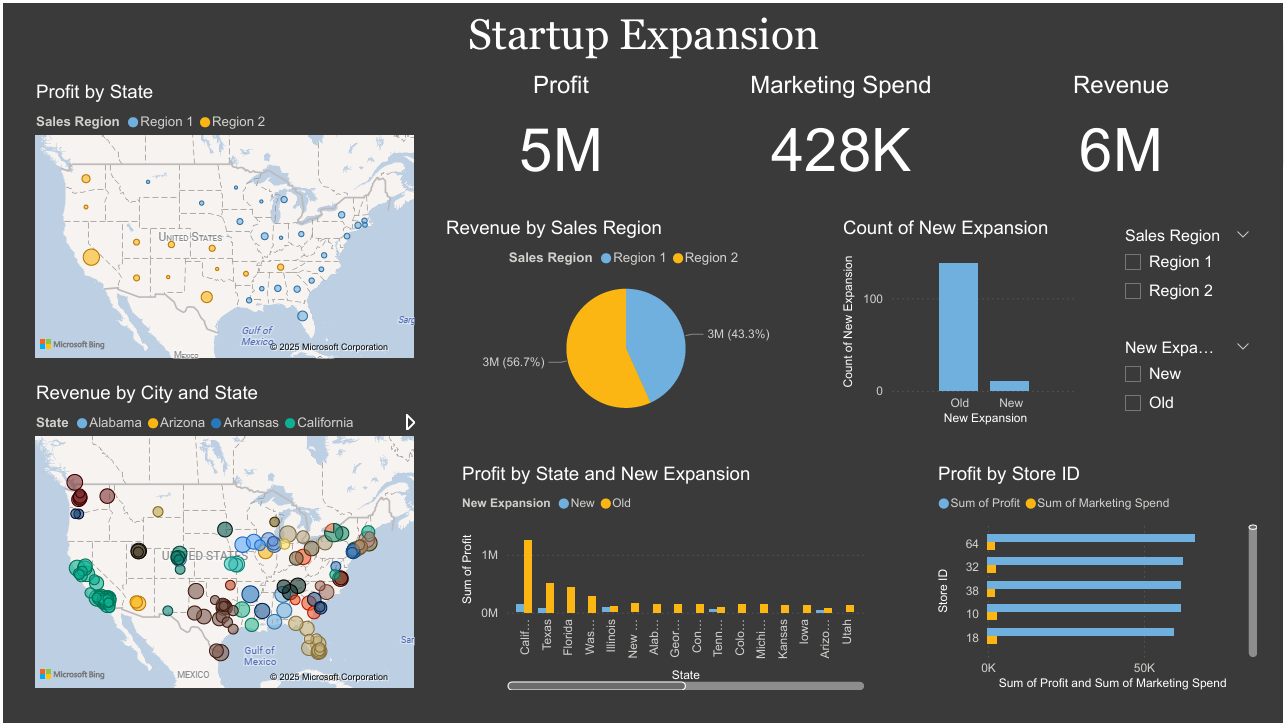

The page's visual inventory and layout, read from the dashboard file:
{"tool":"powerbi","page":{"name":"Page 1","canvas":[1280,720],"ordinal":0},"visuals":[{"type":"textbox","box":[453.3,1.1,372.2,67.8],"z":0},{"type":"map","title":"Profit by State","fields":{"Category":["New Text Document.State"],"Size":["Sum(New Text Document.Profit)"],"Series":["New Text Document.Sales Region"]},"box":[26.7,76.7,388.9,283.3],"z":1000},{"type":"map","title":"Revenue by City and State","fields":{"Category":["New Text Document.City"],"Size":["Sum(New Text Document.Revenue)"],"Series":["New Text Document.State"]},"box":[26.7,377.8,388.9,312.2],"z":2000},{"type":"pieChart","title":"Revenue by Sales Region","fields":{"Series":["New Text Document.Sales Region"],"Y":["Sum(New Text Document.Revenue)"]},"box":[436.5,212.6,370.1,213.8],"z":3000},{"type":"card","title":"Profit","fields":{"Values":["Sum(New Text Document.Profit)"]},"box":[436.7,66.8,240,122.2],"z":4000},{"type":"card","title":"Marketing Spend","fields":{"Values":["Sum(New Text Document.Marketing Spend)"]},"box":[716.7,66.8,240,122.2],"z":5000},{"type":"card","title":"Revenue","fields":{"Values":["Sum(New Text Document.Revenue)"]},"box":[996.7,66.8,240,122.2],"z":6000},{"type":"columnChart","title":"Count of New Expansion ","fields":{"Category":["New Text Document.New Expansion"],"Y":["CountNonNull(New Text Document.New Expansion)"]},"box":[833.6,212.6,245.2,213.8],"z":7000},{"type":"clusteredColumnChart","title":"Profit by State and New Expansion","fields":{"Category":["New Text Document.State"],"Series":["New Text Document.New Expansion"],"Y":["Sum(New Text Document.Profit)"]},"box":[453.4,459,411.8,231.8],"z":8000},{"type":"slicer","fields":{"Values":["New Text Document.Sales Region"]},"box":[1108.1,218.2,149.6,96.8],"z":9000},{"type":"slicer","fields":{"Values":["New Text Document.New Expansion"]},"box":[1108.1,329.6,149.6,96.8],"z":10000},{"type":"clusteredBarChart","title":"Profit by Store ID","fields":{"Category":["New Text Document.Store ID"],"Y":["Sum(New Text Document.Profit)","Sum(New Text Document.Marketing Spend)"]},"box":[929.2,459,328.5,231.8],"z":11000}]}

Visuals, with their boxes in screenshot pixels (x1, y1, x2, y2), scaled from the page's 1280x720 canvas onto the 1288x727 screenshot:
textbox: detection(456, 1, 831, 70)
"Profit by State" map: detection(27, 77, 418, 364)
"Revenue by City and State" map: detection(27, 381, 418, 697)
"Revenue by Sales Region" pieChart: detection(439, 215, 812, 431)
"Profit" card: detection(439, 67, 681, 191)
"Marketing Spend" card: detection(721, 67, 963, 191)
"Revenue" card: detection(1003, 67, 1244, 191)
"Count of New Expansion " columnChart: detection(839, 215, 1086, 431)
"Profit by State and New Expansion" clusteredColumnChart: detection(456, 463, 871, 698)
slicer - New Text Document.Sales Region: detection(1115, 220, 1266, 318)
slicer - New Text Document.New Expansion: detection(1115, 333, 1266, 431)
"Profit by Store ID" clusteredBarChart: detection(935, 463, 1266, 698)
